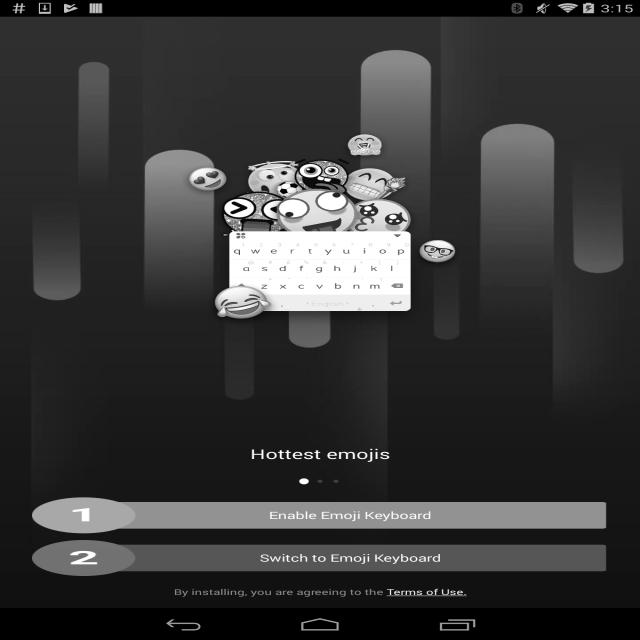Button: (130, 496, 612, 533), (128, 539, 613, 575)
ImageView: (159, 128, 451, 233), (209, 287, 273, 320), (418, 238, 461, 263)
TextView: (168, 586, 473, 598), (244, 444, 401, 467)
